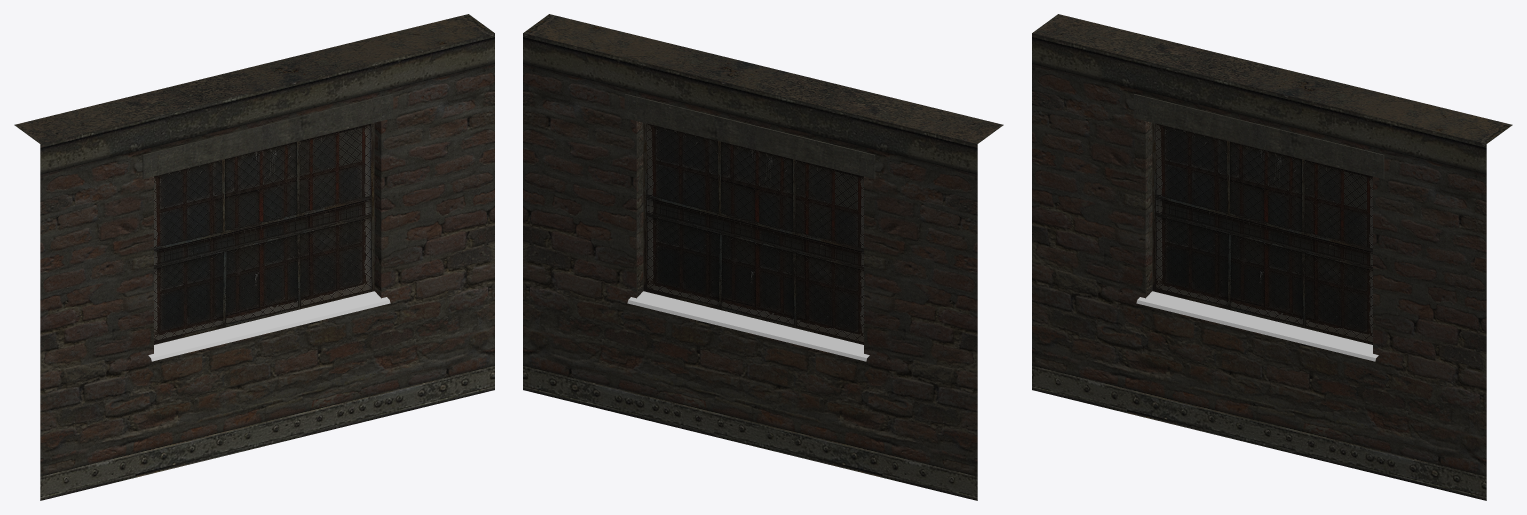
The model's file is window_hr_1.fbx.
The picture shows the model from 3 angles, left to right: view 1: azimuth 30°, elevation 25°; view 2: azimuth 150°, elevation 25°; view 3: azimuth 330°, elevation 25°; orthographic projection.
Visible parts, largest first — view 1: window_hr_1; view 2: window_hr_1; view 3: window_hr_1.
Part boxes in pixels (box(x1,y1,x2,y2)): window_hr_1: box(14, 14, 494, 500); window_hr_1: box(523, 14, 1003, 500); window_hr_1: box(1032, 14, 1512, 500).
Bounding box in the file's own units: 4 × 0.51 × 3.
